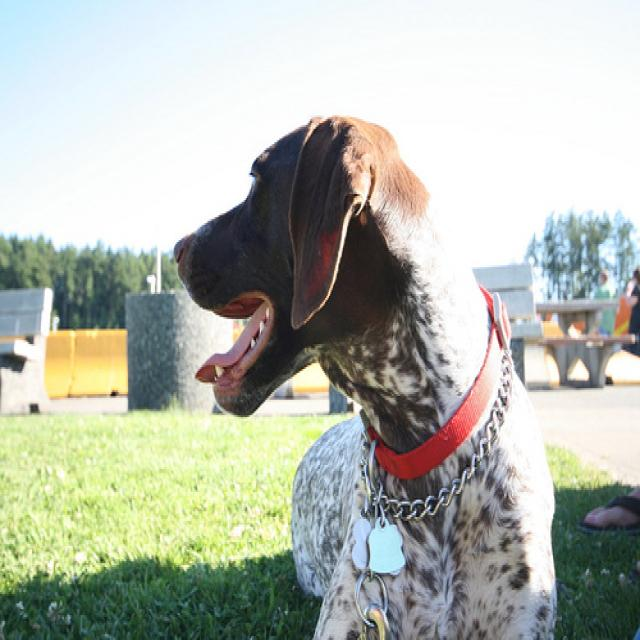dog-german_shorthaired: (161, 102, 563, 636)
